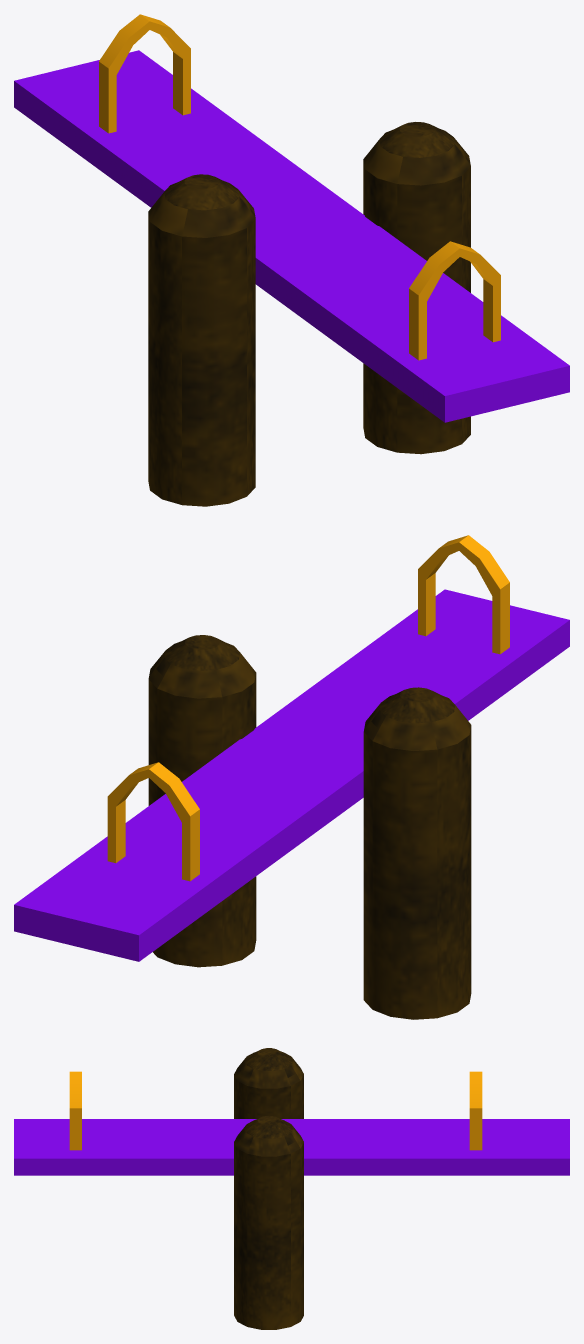
Rendered from GangorraRoxaLOD0.fbx.
3 renders of one model, top to bottom at view 1: azimuth 30°, elevation 25°; view 2: azimuth 150°, elevation 25°; view 3: azimuth 270°, elevation 25°, orthographic. The views are drawn at different scales.
Parts seen in each view (by area): view 1: GangorraRoxaLOD0; view 2: GangorraRoxaLOD0; view 3: GangorraRoxaLOD0.
Boxes of the visible parts, box(x1,y1,x2,y2) form: GangorraRoxaLOD0: box(14, 14, 569, 506); GangorraRoxaLOD0: box(14, 535, 569, 1019); GangorraRoxaLOD0: box(14, 1048, 569, 1329).
Size of the model in its own units: 64.01 by 64.42 by 156.
